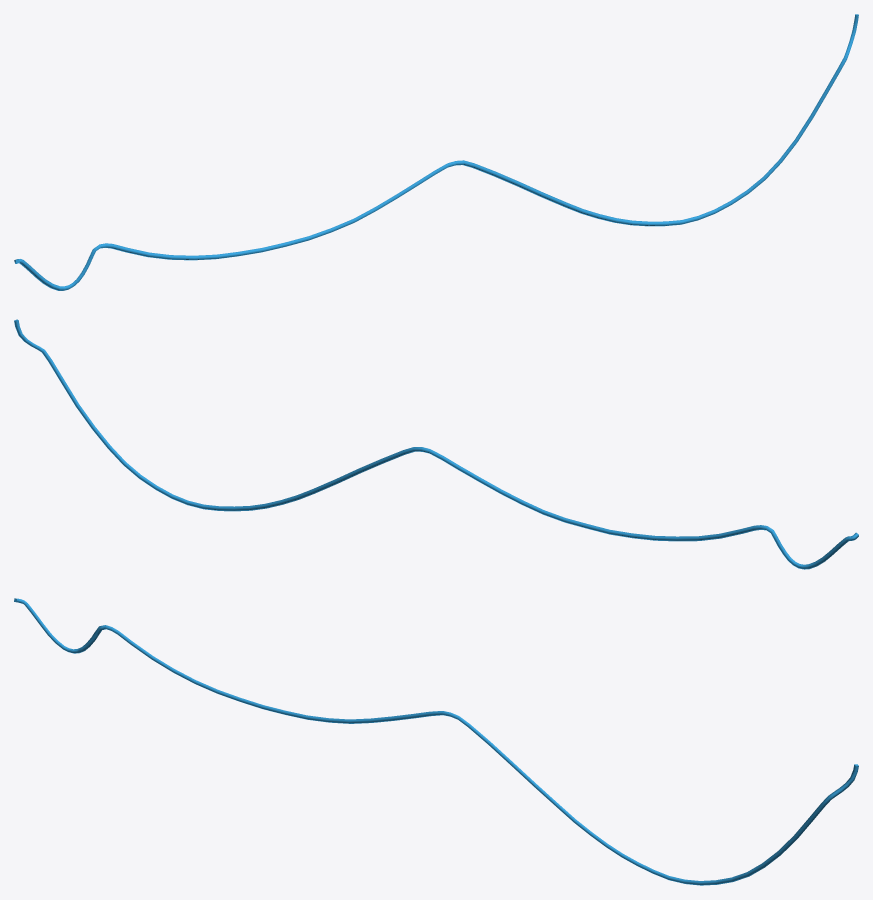
Rendered from CableHanging_Med_06.glb.
The picture shows the model from 3 angles, top to bottom: view 1: azimuth 30°, elevation 25°; view 2: azimuth 150°, elevation 25°; view 3: azimuth 330°, elevation 25°; orthographic projection. The views are drawn at different scales.
Parts seen in each view (by area): view 1: CableHanging_Med_06.001; view 2: CableHanging_Med_06.001; view 3: CableHanging_Med_06.001.
Part boxes in pixels (box(x1,y1,x2,y2)): CableHanging_Med_06.001: box(14, 14, 858, 290); CableHanging_Med_06.001: box(14, 319, 858, 569); CableHanging_Med_06.001: box(14, 598, 858, 885).
Bounding box in the file's own units: 5.7 × 1 × 0.2146.
